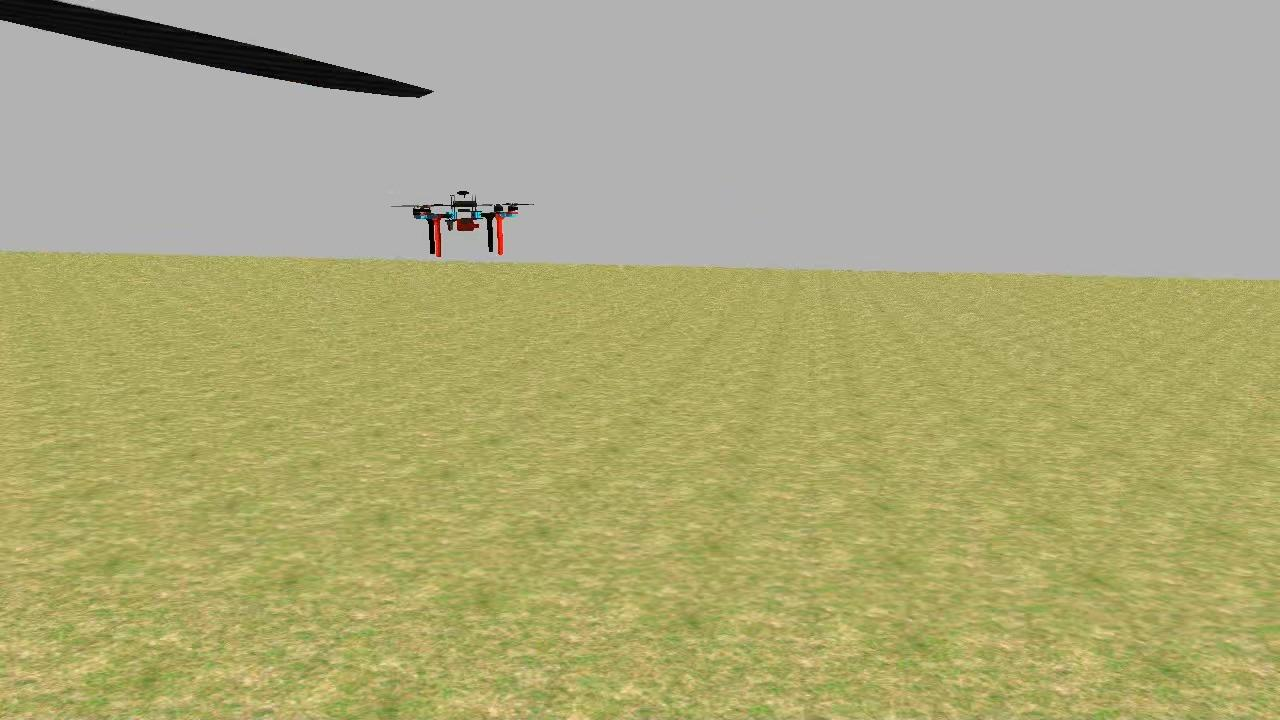UAV: (407, 182, 524, 268)
